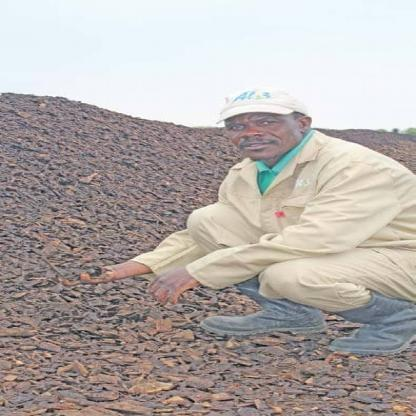person: (59, 100, 415, 362)
